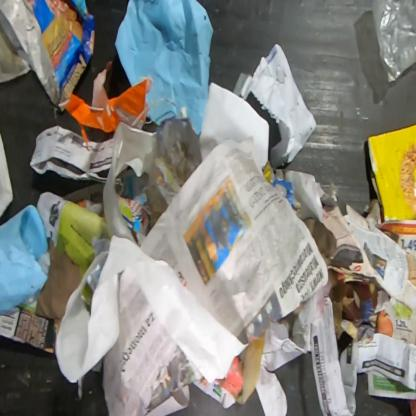cardboard: (0, 0, 97, 108), (192, 329, 266, 410), (366, 123, 415, 222), (0, 289, 61, 355)
soft_plastic: (57, 68, 154, 143), (371, 0, 415, 83)
